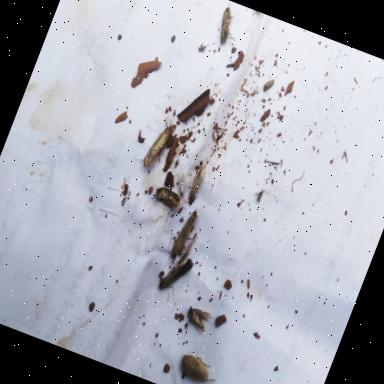pbw: (162, 204, 202, 266), (138, 113, 178, 174), (156, 243, 198, 298), (213, 1, 249, 49), (177, 351, 222, 384), (149, 183, 184, 210), (182, 306, 214, 334), (188, 158, 209, 199)
